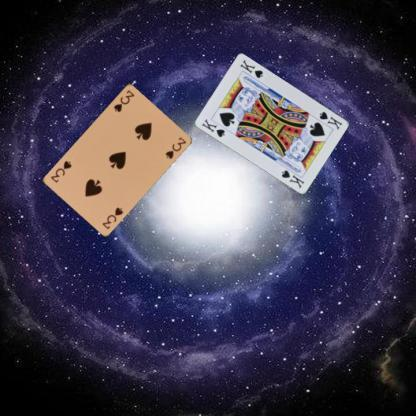3s: (111, 87, 136, 113), (100, 204, 124, 231)
Ks: (317, 109, 344, 131), (199, 116, 226, 138)
